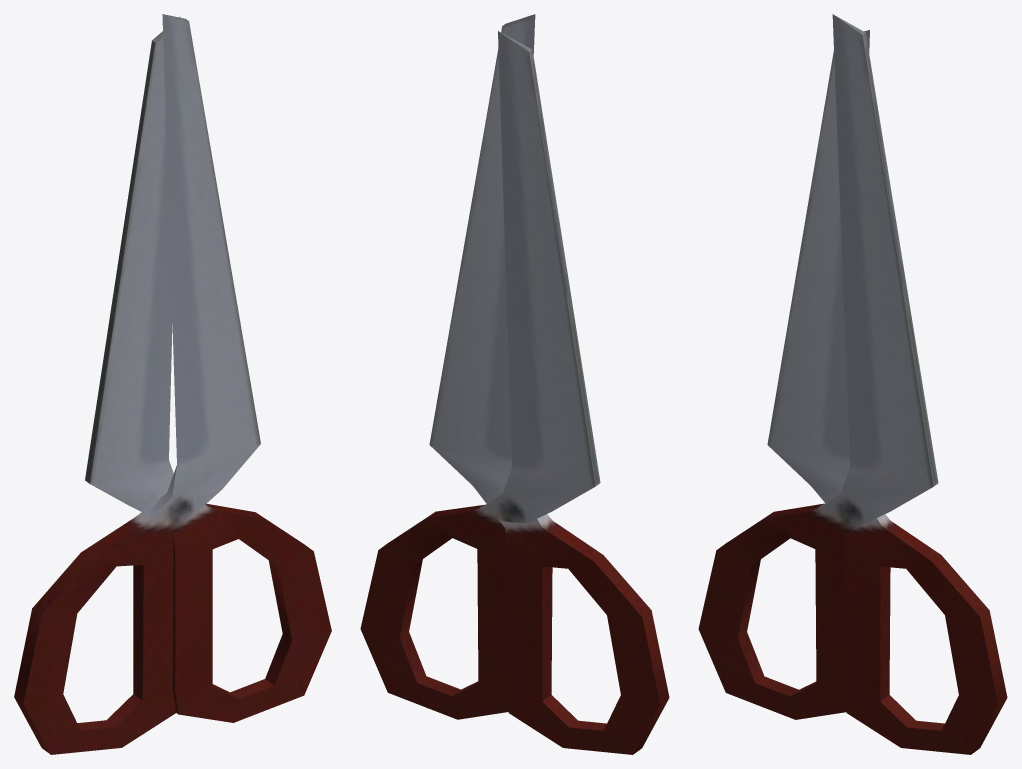
File: sniksnak_01.obj
3 views of the same model, side by side, from view 1: azimuth 30°, elevation 25°; view 2: azimuth 150°, elevation 25°; view 3: azimuth 330°, elevation 25° (orthographic).
Parts seen in each view (by area): view 1: Object06, Object05; view 2: Object05, Object06; view 3: Object06, Object05.
Part boxes in pixels (x1,y1,x2,y2): Object06: (14,14,260,754); Object05: (85,16,331,722); Object05: (360,31,600,719); Object06: (429,14,669,754); Object06: (698,14,938,719); Object05: (767,30,1007,754).
Size of the model in its own units: 8.56 by 19.39 by 0.5758.
1 material, 1 textured.
